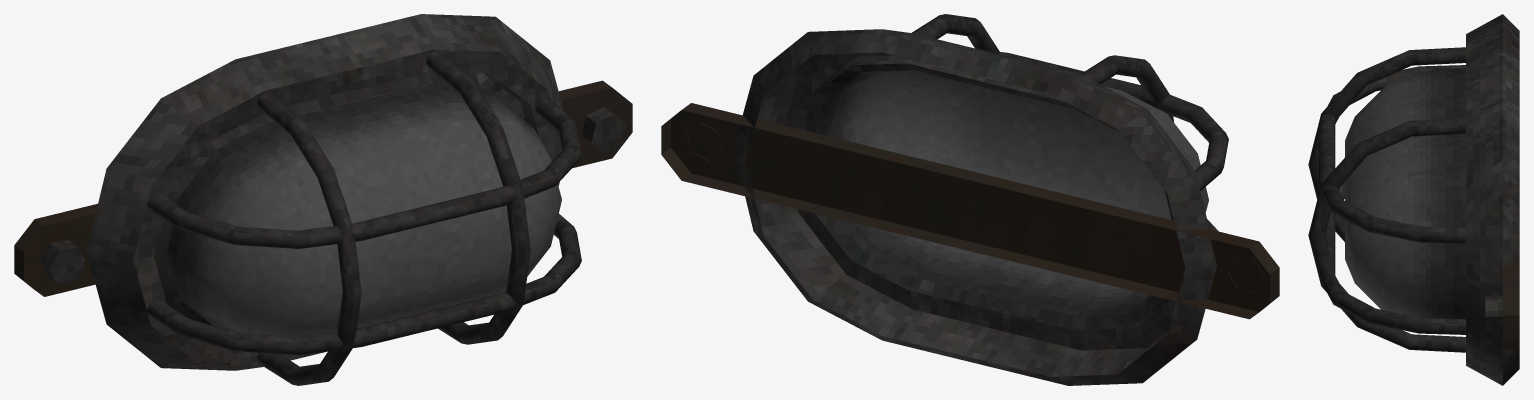
The model's file is lamp_2_off.glb.
The picture shows the model from 3 angles, left to right: view 1: azimuth 30°, elevation 25°; view 2: azimuth 150°, elevation 25°; view 3: azimuth 270°, elevation 25°; orthographic projection. The views are drawn at different scales.
Parts seen in each view (by area): view 1: lamp_2_off; view 2: lamp_2_off; view 3: lamp_2_off.
Part boxes in pixels (x1,y1,x2,y2): lamp_2_off: (14, 14, 632, 385); lamp_2_off: (661, 14, 1279, 385); lamp_2_off: (1308, 14, 1519, 385).
Bounding box in the file's own units: 0.36 × 0.176 × 0.126.
4 materials, 4 textured.
